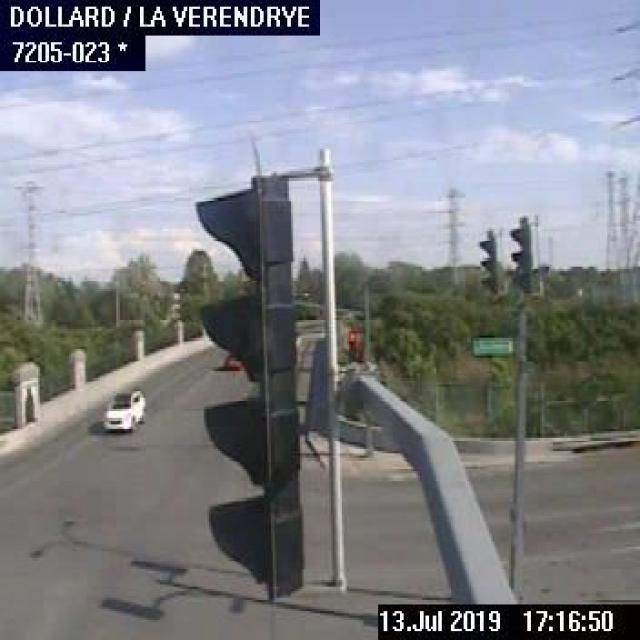vehicle: (99, 388, 146, 433), (221, 350, 244, 370)
